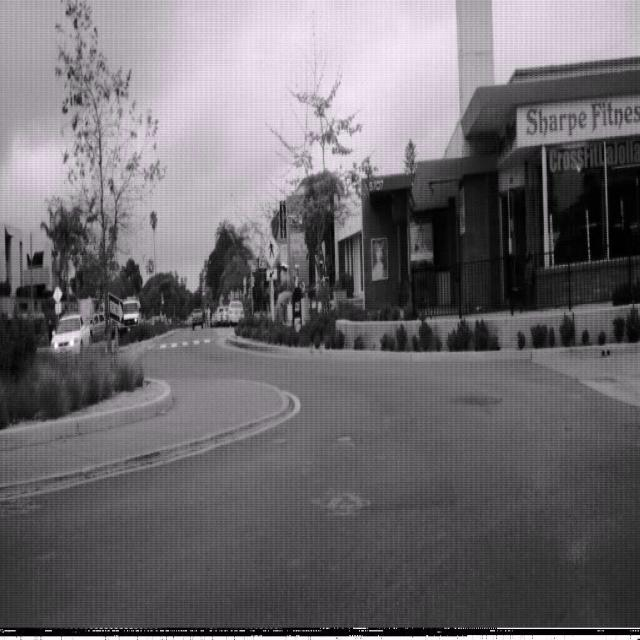pedestrianCrossing: (261, 232, 280, 268)
